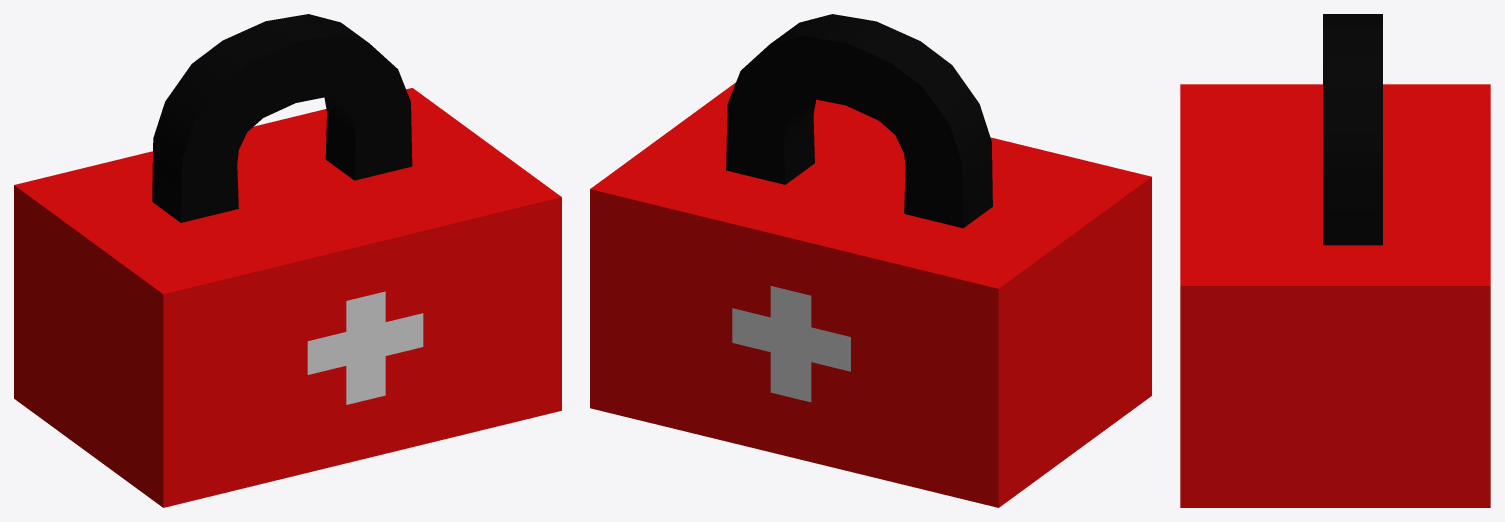
Rendered from FIRSTAID_HERE.fbx.
3 views of the same model, side by side, from view 1: azimuth 30°, elevation 25°; view 2: azimuth 150°, elevation 25°; view 3: azimuth 270°, elevation 25° (orthographic). The views are drawn at different scales.
Parts seen in each view (by area): view 1: pCube1; view 2: pCube1; view 3: pCube1.
Boxes of the visible parts, bbox=[...] form: pCube1: bbox=[14, 14, 561, 507]; pCube1: bbox=[590, 14, 1151, 507]; pCube1: bbox=[1180, 14, 1490, 507].
Bounding box in the file's own units: 22.78 × 20.02 × 14.79.
